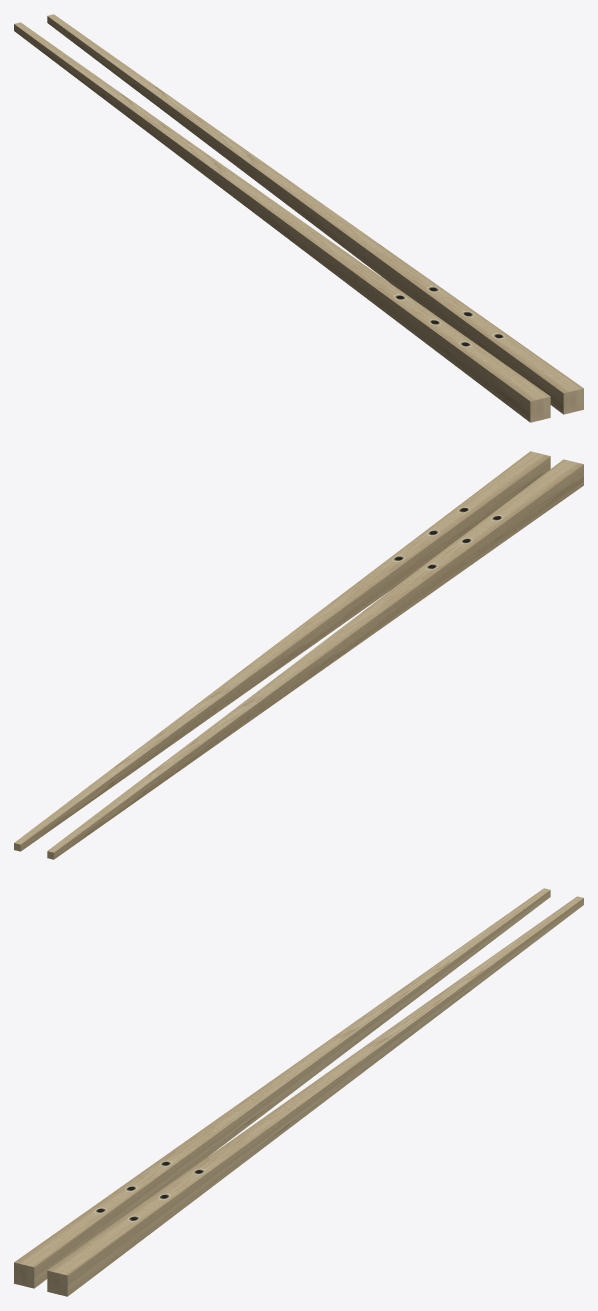
The model's file is chopsticks_B.fbx.
3 views of the same model, one above another, from view 1: azimuth 30°, elevation 25°; view 2: azimuth 150°, elevation 25°; view 3: azimuth 330°, elevation 25° (orthographic).
Visible parts, largest first — view 1: Chopstick_B; view 2: Chopstick_B; view 3: Chopstick_B.
Boxes of the visible parts, box(x1,y1,x2,y2) form: Chopstick_B: box(14, 14, 583, 422); Chopstick_B: box(14, 451, 583, 859); Chopstick_B: box(14, 888, 583, 1296).
Size of the model in its own units: 1.05 by 0.3989 by 17.77.
1 material, 1 textured.
